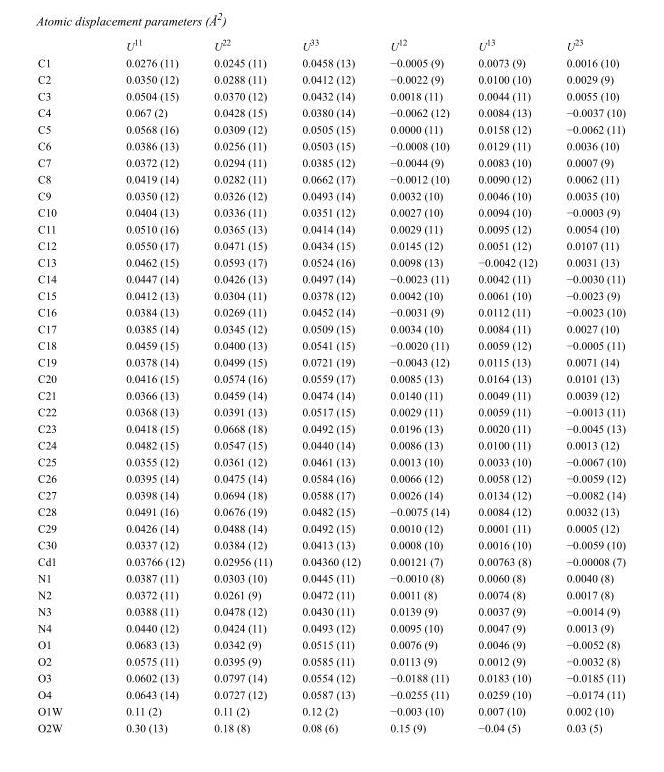table: (37, 36, 624, 733)
table column: (93, 36, 198, 733), (374, 36, 463, 733), (198, 36, 286, 733), (286, 36, 374, 733), (463, 36, 551, 733), (551, 36, 624, 733), (37, 36, 93, 733)
table column header: (37, 36, 624, 54)
table row: (37, 36, 624, 54), (37, 70, 624, 87), (37, 103, 624, 120), (37, 120, 624, 137), (37, 153, 624, 170), (37, 170, 624, 187), (37, 203, 624, 220), (37, 236, 624, 253), (37, 253, 624, 270), (37, 286, 624, 303), (37, 303, 624, 320), (37, 336, 624, 353), (37, 369, 624, 386), (37, 386, 624, 403), (37, 419, 624, 436), (37, 436, 624, 453), (37, 469, 624, 486), (37, 502, 624, 519), (37, 519, 624, 536), (37, 552, 624, 569), (37, 569, 624, 586), (37, 602, 624, 619), (37, 635, 624, 652), (37, 652, 624, 669), (37, 685, 624, 702), (37, 702, 624, 719), (37, 54, 624, 70), (37, 87, 624, 103), (37, 137, 624, 153), (37, 187, 624, 203), (37, 220, 624, 236), (37, 270, 624, 286), (37, 320, 624, 336), (37, 353, 624, 369), (37, 403, 624, 419), (37, 453, 624, 469), (37, 486, 624, 502), (37, 536, 624, 552), (37, 586, 624, 602), (37, 619, 624, 635), (37, 669, 624, 685), (37, 719, 624, 733)
